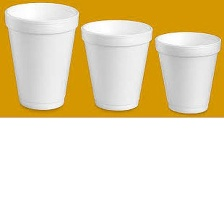paper_cup: (1, 0, 80, 114), (77, 15, 154, 113), (150, 28, 223, 116)
